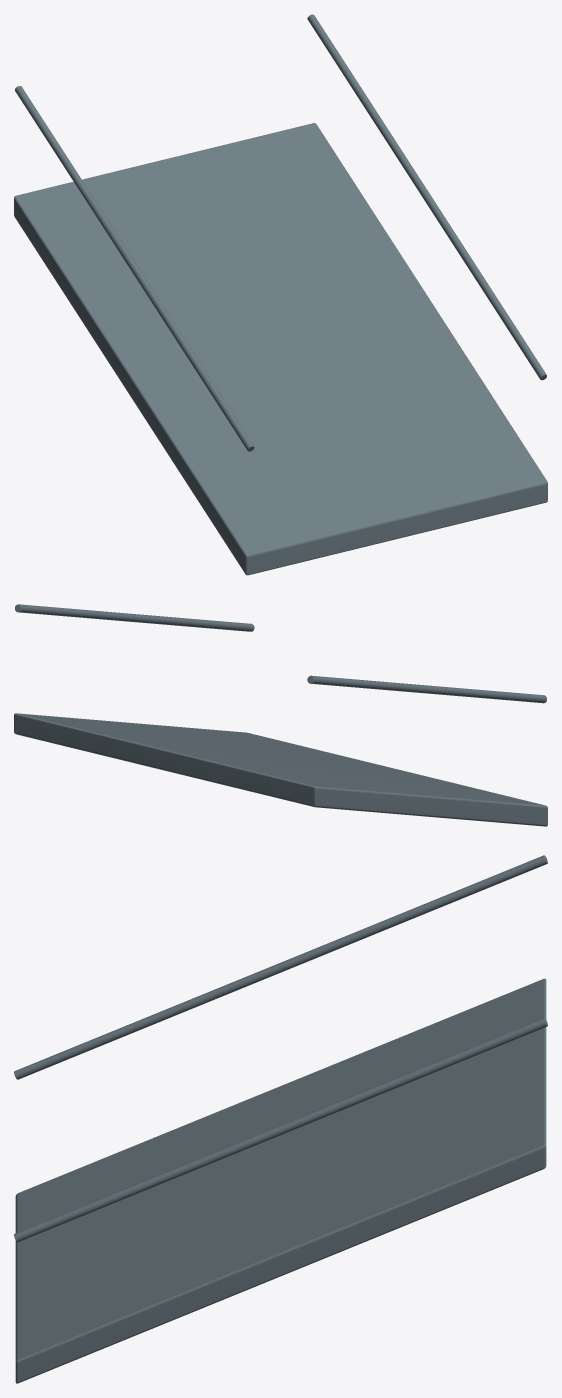
Rendered from ramp.fbx.
3 views of the same model, one above another, from view 1: azimuth 30°, elevation 25°; view 2: azimuth 150°, elevation 25°; view 3: azimuth 270°, elevation 25° (orthographic). The views are drawn at different scales.
Parts seen in each view (by area): view 1: ramp; view 2: ramp; view 3: ramp.
Part boxes in pixels (x1,y1,x2,y2): ramp: [14, 14, 547, 575]; ramp: [14, 604, 547, 826]; ramp: [14, 855, 547, 1383].
Bounding box in the file's own units: 300 × 402 × 302.
